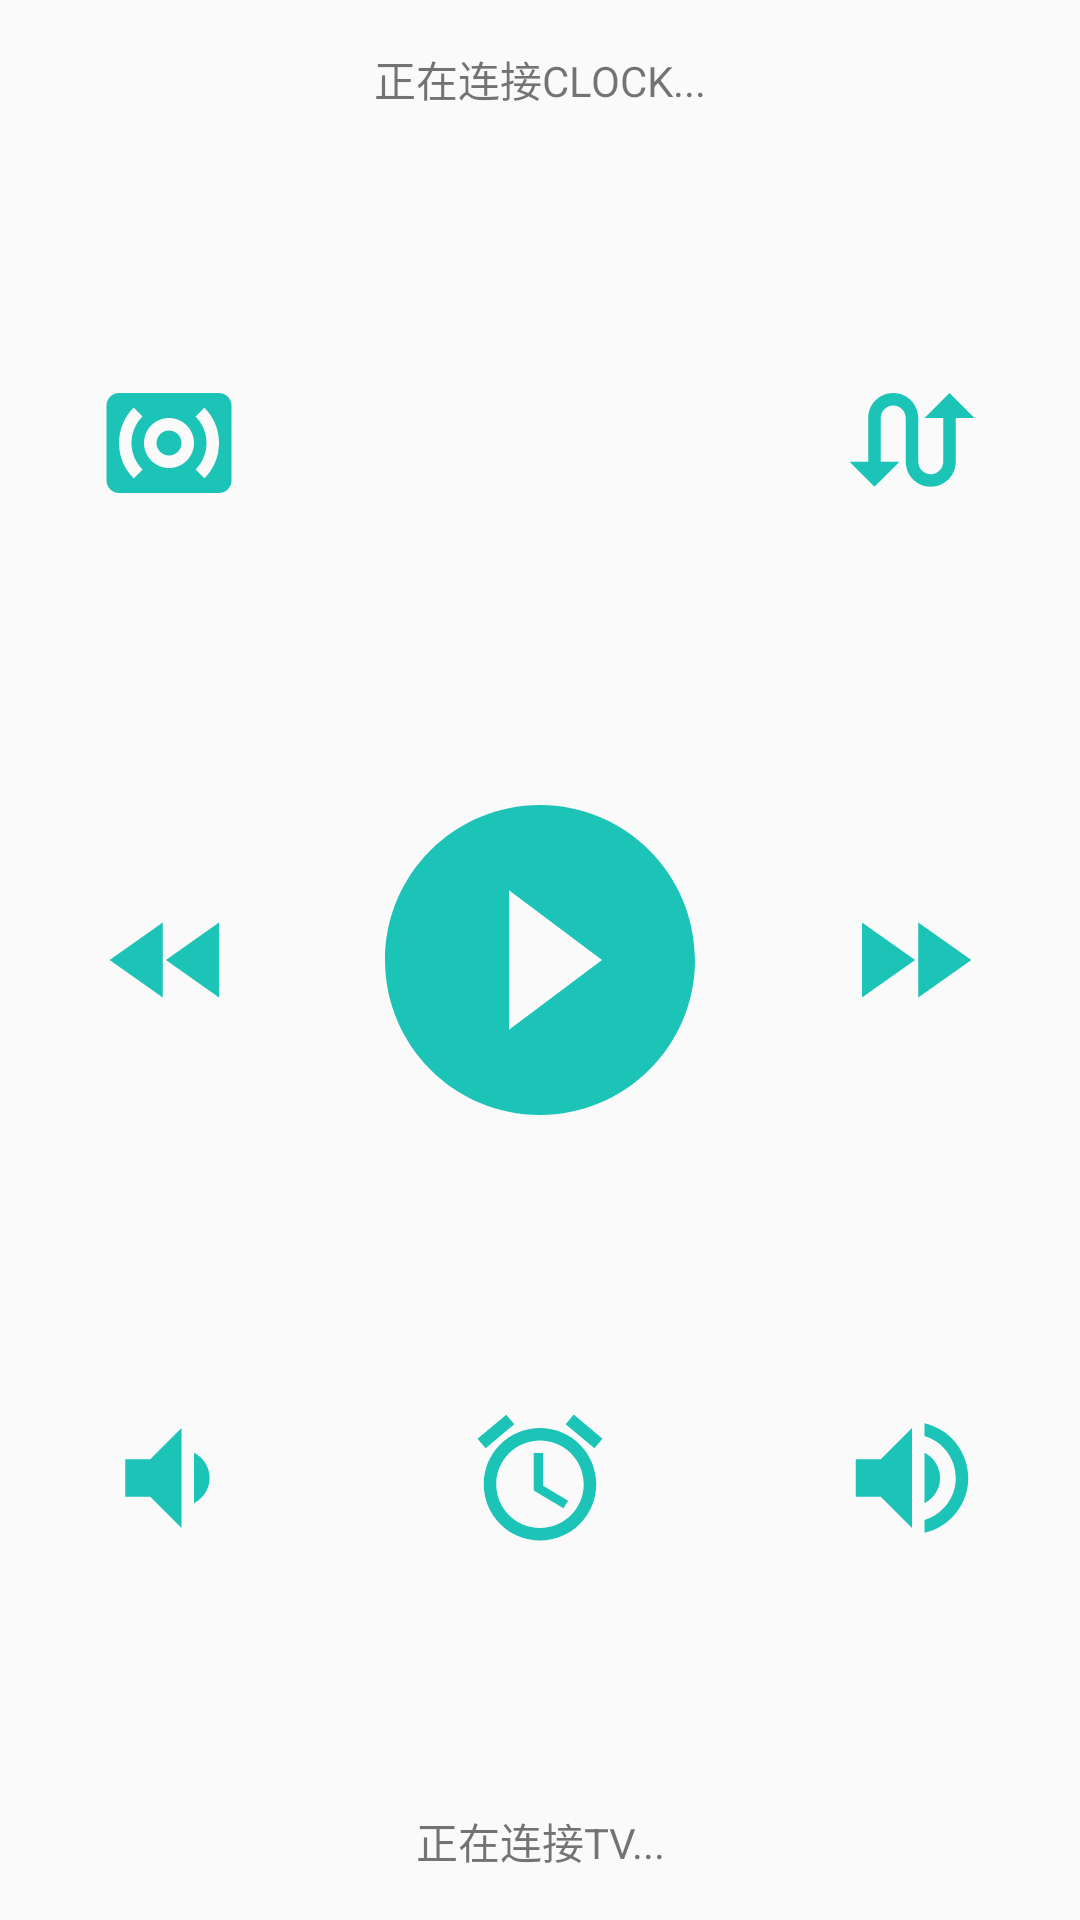

Icons on this 1080×1920 Android screen, each with its box as (x1, y1, x2, y2):
alarm: (477, 1414, 603, 1541)
fast forward: (862, 922, 971, 998)
fast rewind: (110, 922, 219, 998)
play: (385, 805, 695, 1115)
repeat: (850, 393, 975, 487)
sound: (106, 393, 232, 493)
volume down: (125, 1428, 210, 1528)
volume up: (855, 1423, 969, 1533)
